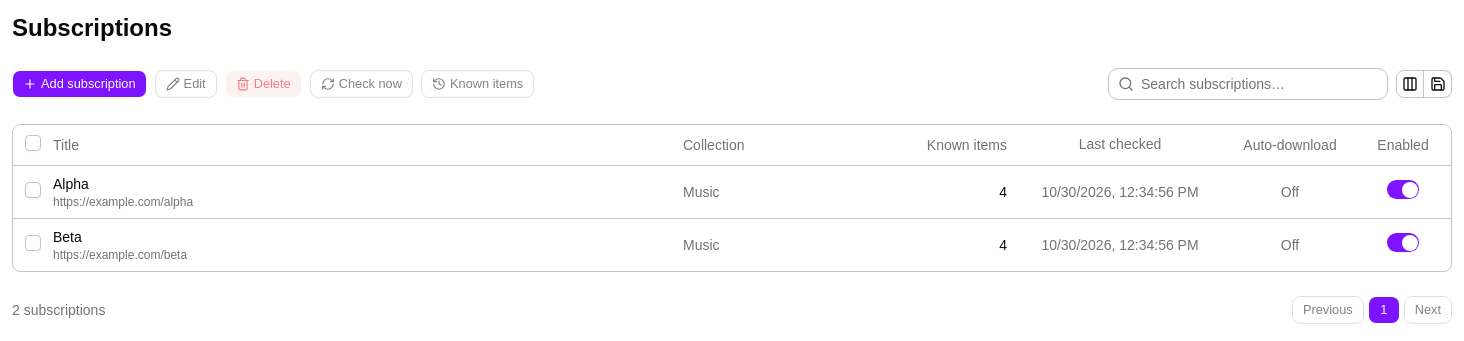
Scenario: SubscriptionsPage table › Edit and Known items are enabled only for exactly one row
Expected: the text "Alpha" is shown, [53, 176, 89, 192]
Expected: the button "Edit" is disabled, [155, 70, 217, 98]
Press the mouse on the text "Alpha" at (732, 192), box [13, 165, 1451, 218]
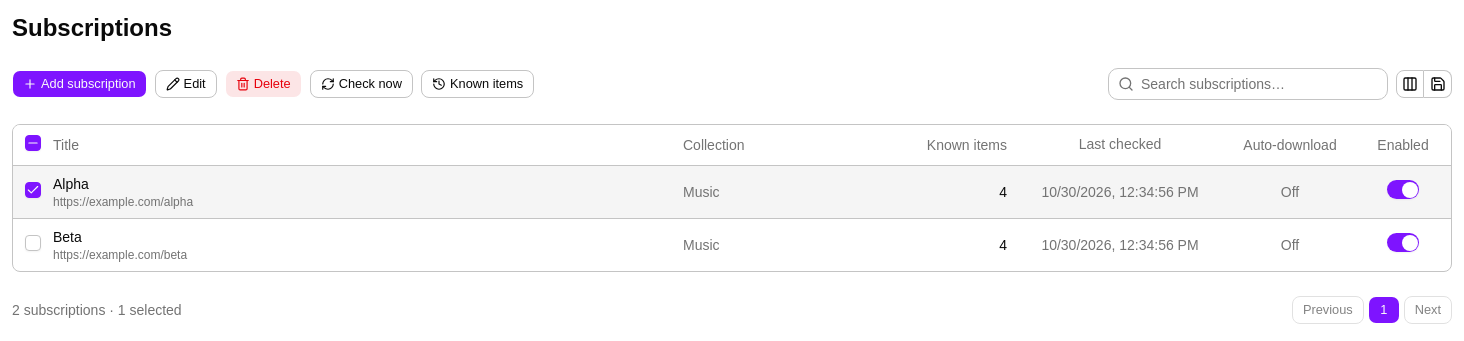
Now the button "Edit" is enabled, box [155, 70, 217, 98]
Now the 1st button "Known items" is enabled, box [421, 70, 534, 98]
Press the mouse on the text "Beta" at (120, 254), box [13, 218, 1451, 270]
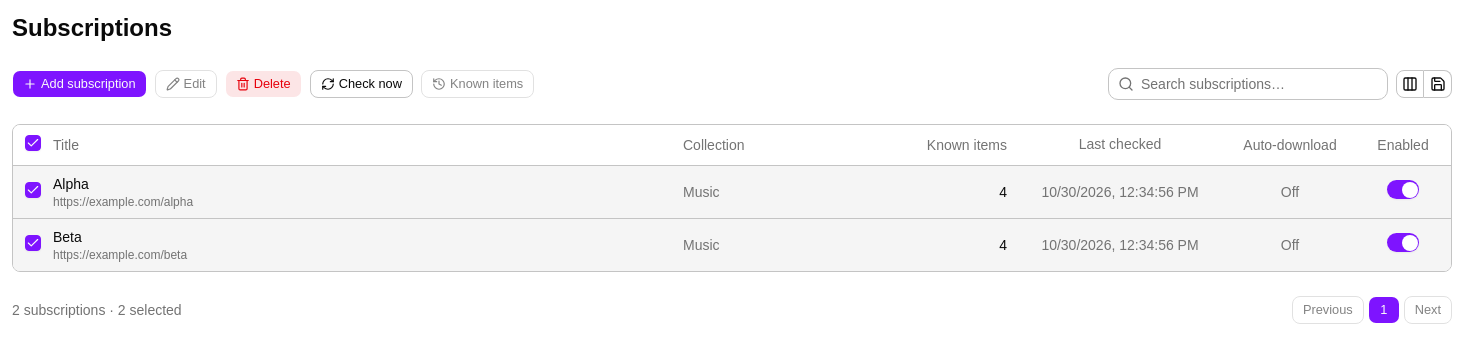
Now the button "Edit" is disabled, box [155, 70, 217, 98]
Now the 1st button "Known items" is disabled, box [421, 70, 534, 98]
